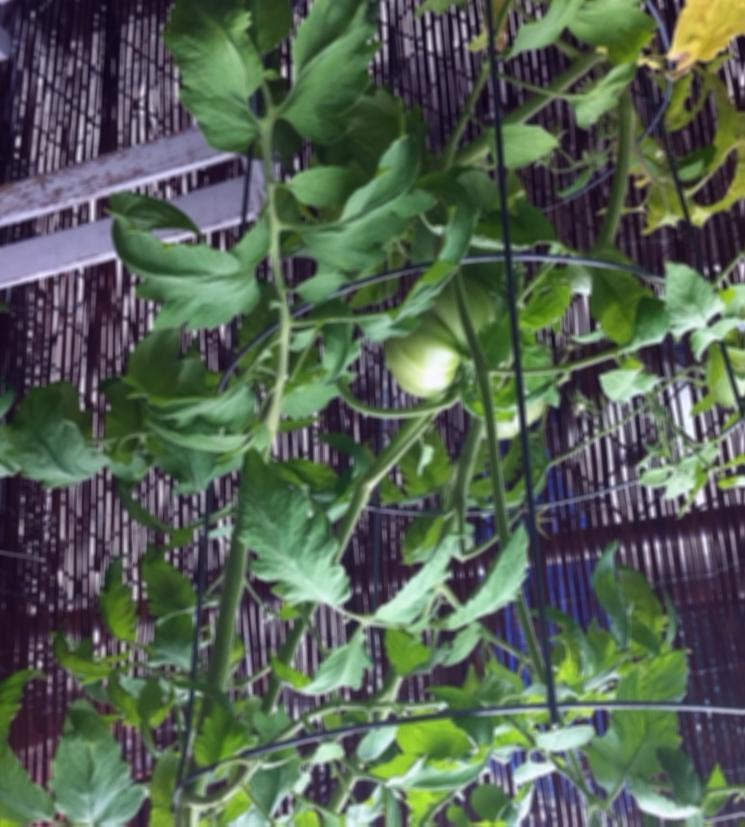Tomato leaf: (234, 467, 366, 622), (51, 674, 158, 827), (604, 637, 708, 793), (430, 520, 534, 640), (117, 231, 257, 318), (172, 0, 266, 106), (291, 23, 385, 122)
